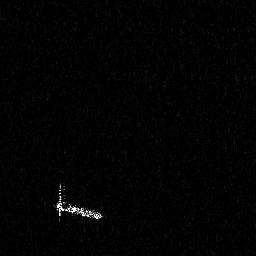ship: (51, 182, 104, 224)
